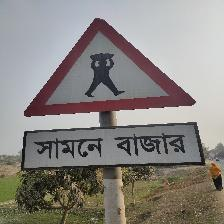Market-in-front: (22, 18, 206, 169)
